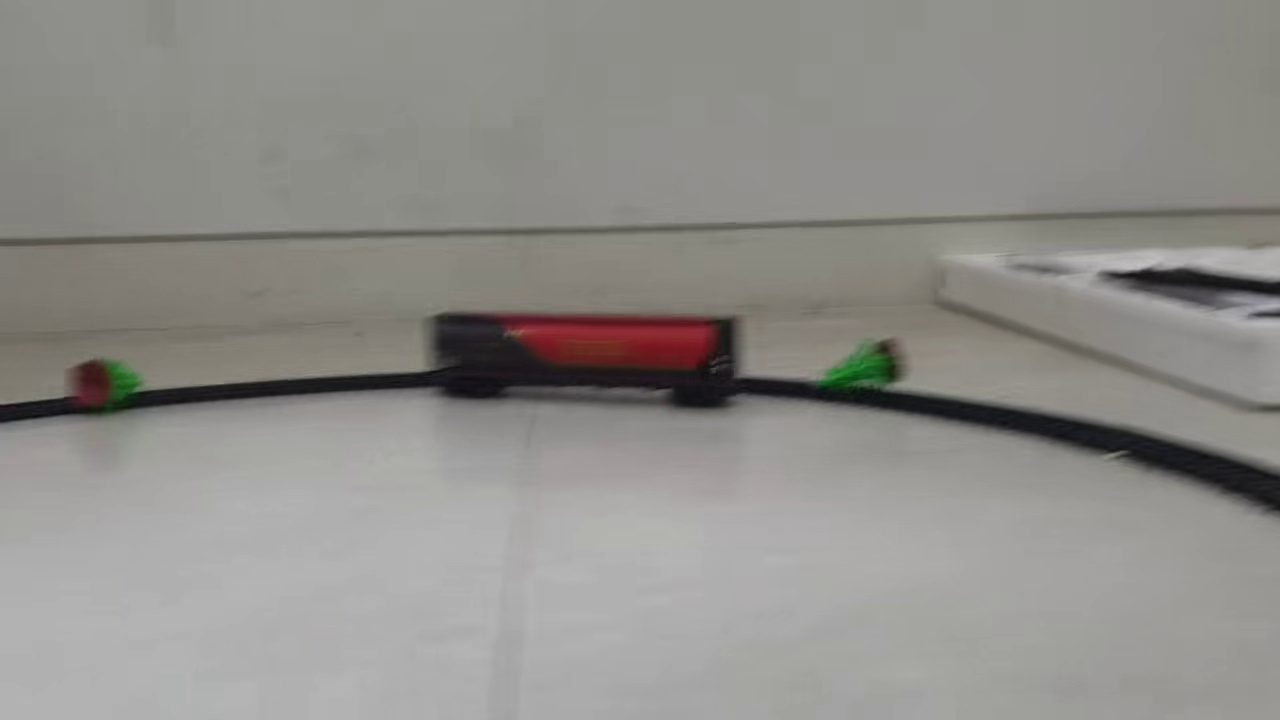tree: (803, 339, 909, 399), (57, 356, 144, 414)
